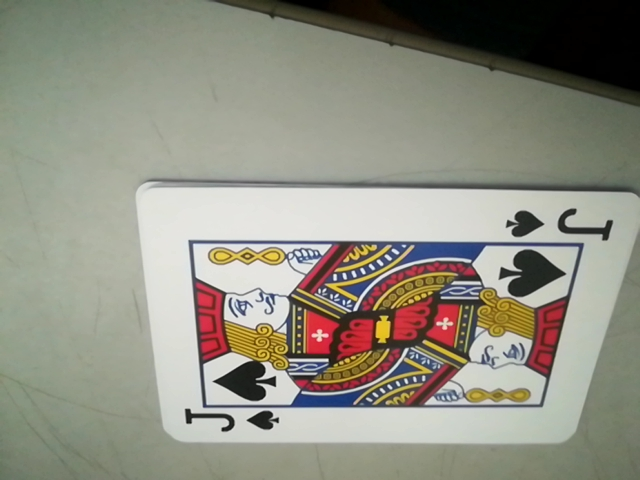ht j: (497, 200, 618, 245), (173, 401, 286, 441)
